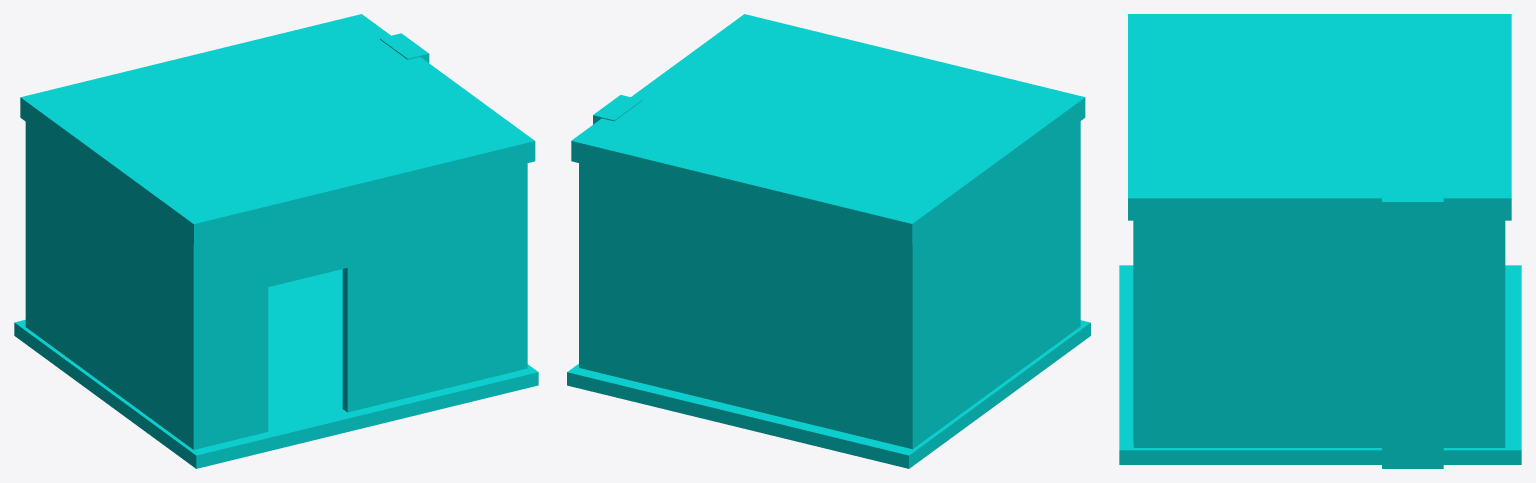
Rendered from SM_Bld_Building_03_Collision.fbx.
3 renders of one model, left to right at view 1: azimuth 30°, elevation 25°; view 2: azimuth 150°, elevation 25°; view 3: azimuth 270°, elevation 25°, orthographic. The views are drawn at different scales.
Parts seen in each view (by area): view 1: SM_Bld_Building_03_Collision; view 2: SM_Bld_Building_03_Collision; view 3: SM_Bld_Building_03_Collision.
Boxes of the visible parts, box(x1,y1,x2,y2) form: SM_Bld_Building_03_Collision: box(14, 14, 538, 468); SM_Bld_Building_03_Collision: box(567, 14, 1090, 468); SM_Bld_Building_03_Collision: box(1119, 14, 1521, 468).
Size of the model in its own units: 531 by 350 by 475.
